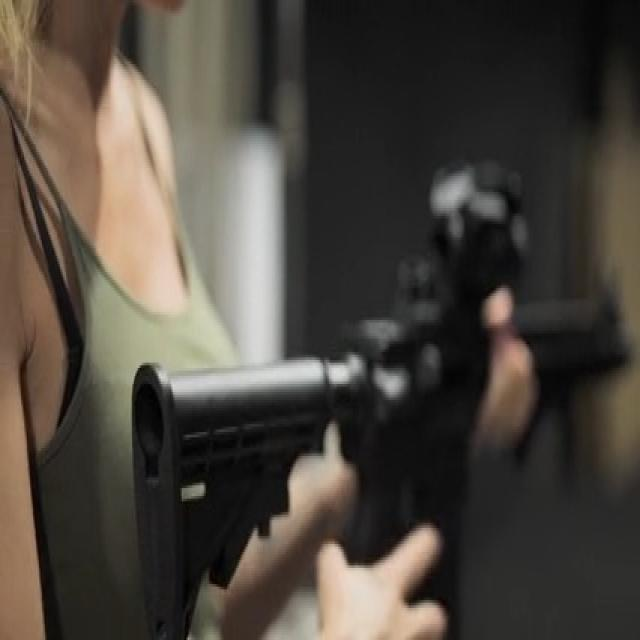Gun_Holder: (132, 140, 640, 640)
